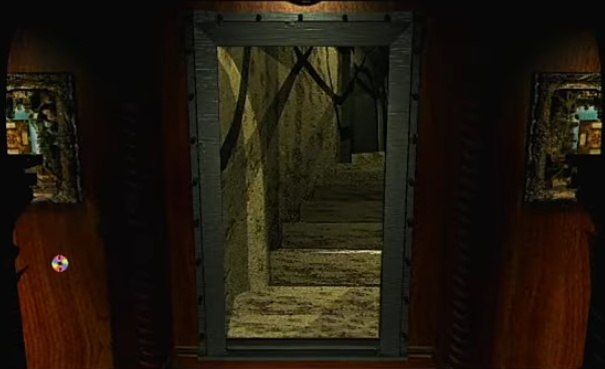Waiting: (48, 252, 71, 273)
